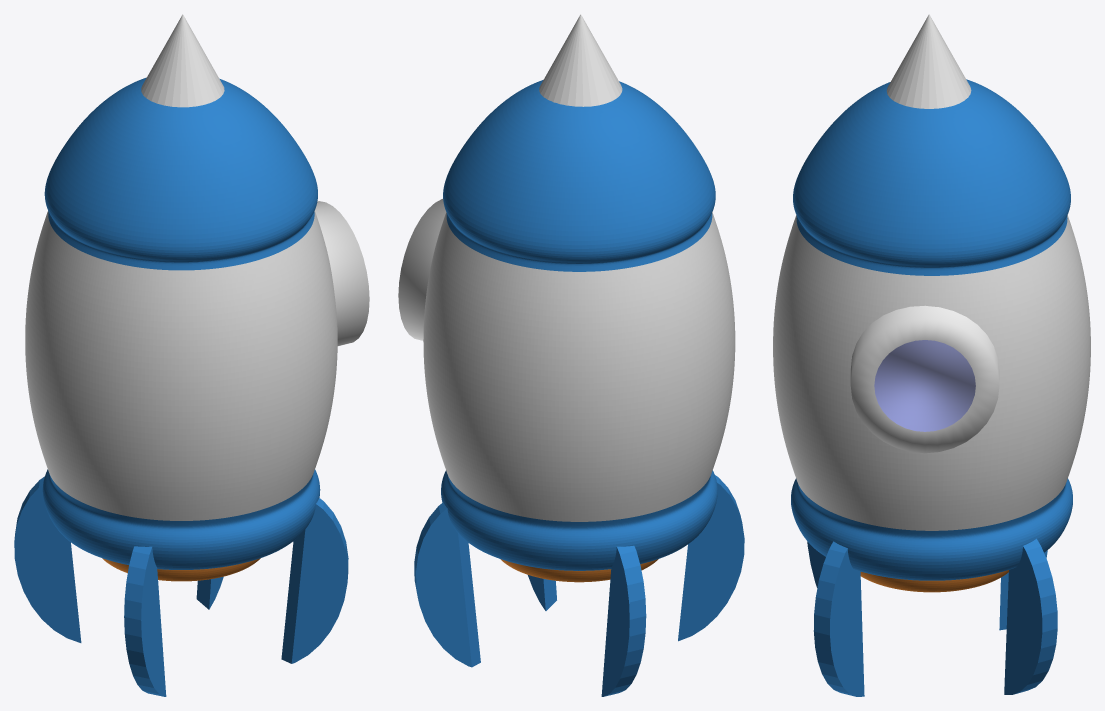
Rendered from Rocket.fbx.
3 views of the same model, side by side, from view 1: azimuth 30°, elevation 25°; view 2: azimuth 150°, elevation 25°; view 3: azimuth 270°, elevation 25° (orthographic).
Parts seen in each view (by area): view 1: Cabin, feets, nozzle, Window, Turbine; view 2: Cabin, feets, nozzle, Window, Turbine; view 3: Cabin, Window, feets, nozzle, Turbine.
Part boxes in pixels (<box>): Cabin: <box>25,77,337,569</box>; feets: <box>14,476,348,696</box>; nozzle: <box>141,14,224,107</box>; Window: <box>315,201,369,345</box>; Turbine: <box>102,558,260,581</box>; Cabin: <box>423,80,735,570</box>; feets: <box>414,475,744,696</box>; nozzle: <box>539,14,622,106</box>; Window: <box>398,199,446,340</box>; Turbine: <box>500,559,658,582</box>; Cabin: <box>773,79,1090,580</box>; Window: <box>850,305,999,453</box>; feets: <box>807,538,1057,696</box>; nozzle: <box>886,14,971,108</box>; Turbine: <box>860,570,1008,592</box>.
Size of the model in its own units: 207 by 445 by 197.
